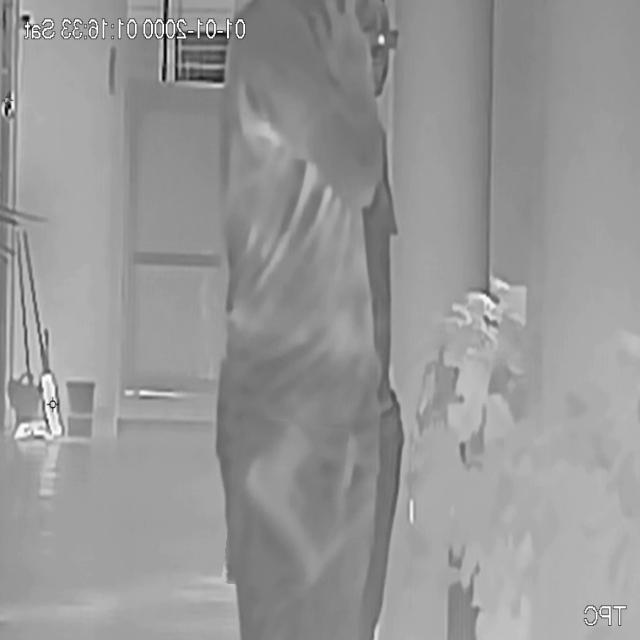Weapon: (226, 419, 344, 593)
